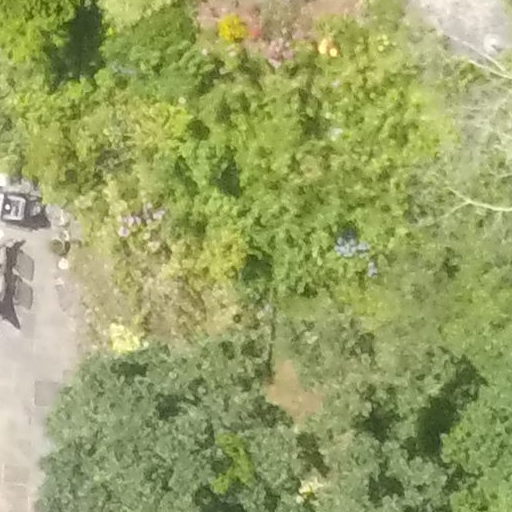flower pot: (49, 229, 71, 261)
